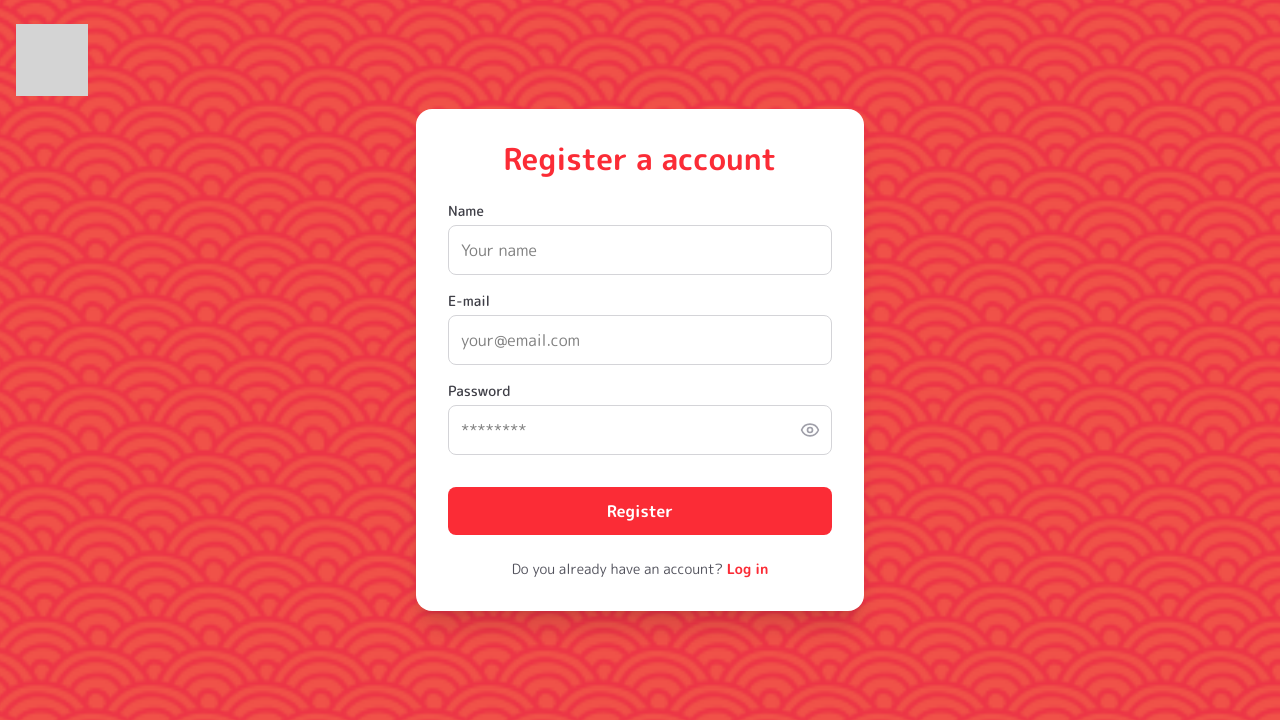
RegisterPage › should show validation errors if fields are invalid
Type "A" into the field with placeholder "Your name" at (640, 250), box [448,225,832,275]
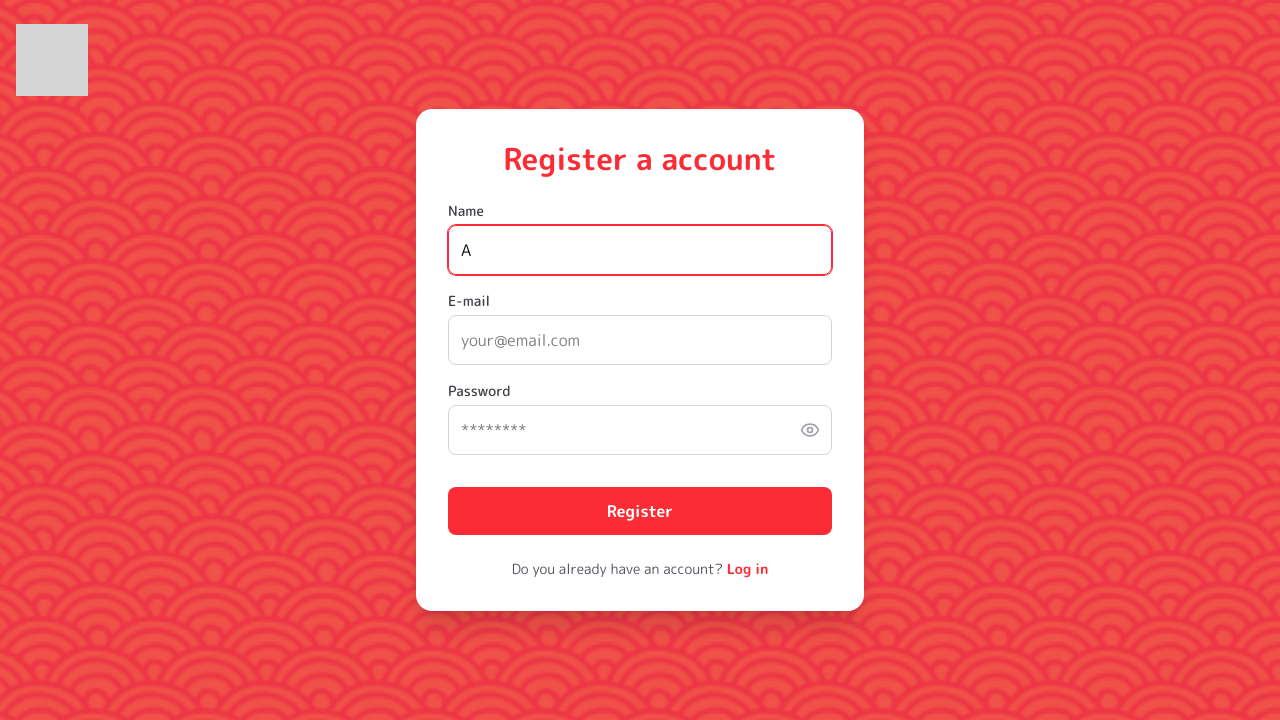
Type "invalid-email" into the field with placeholder "your@email.com" at (640, 340), box [448,315,832,365]
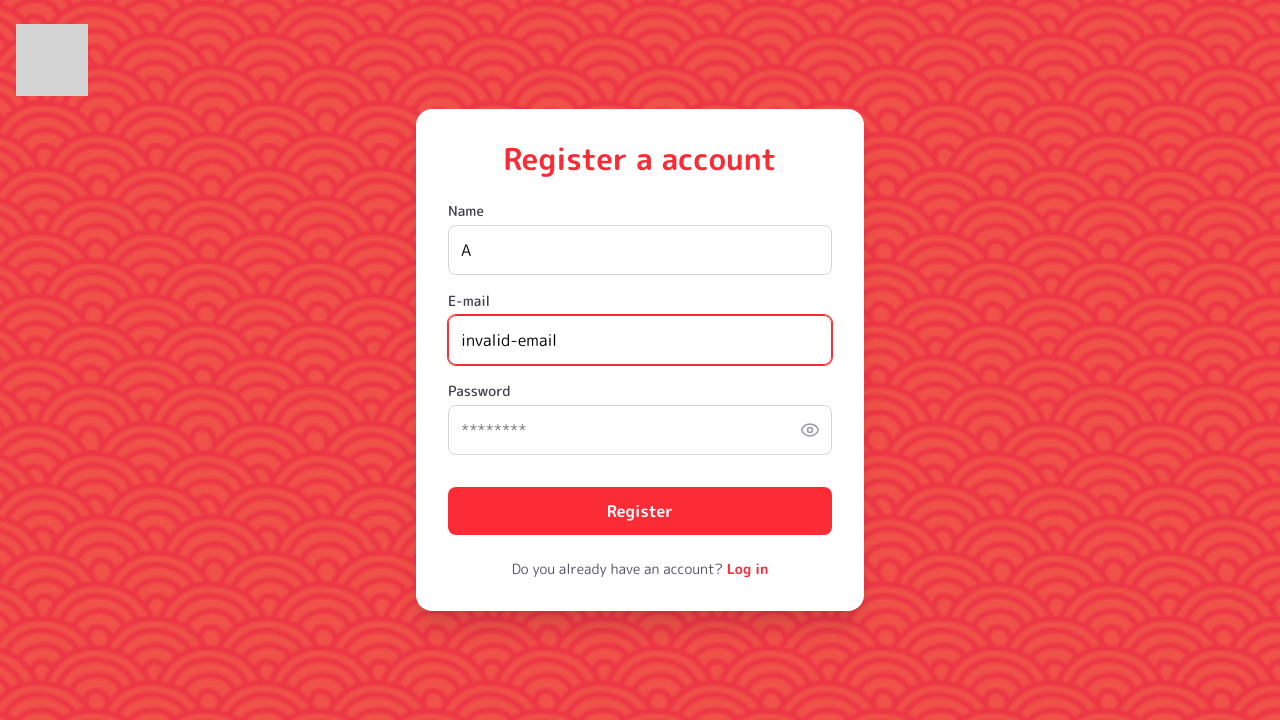
Type "123" into the password field with placeholder "********" at (640, 430), box [448,405,832,455]
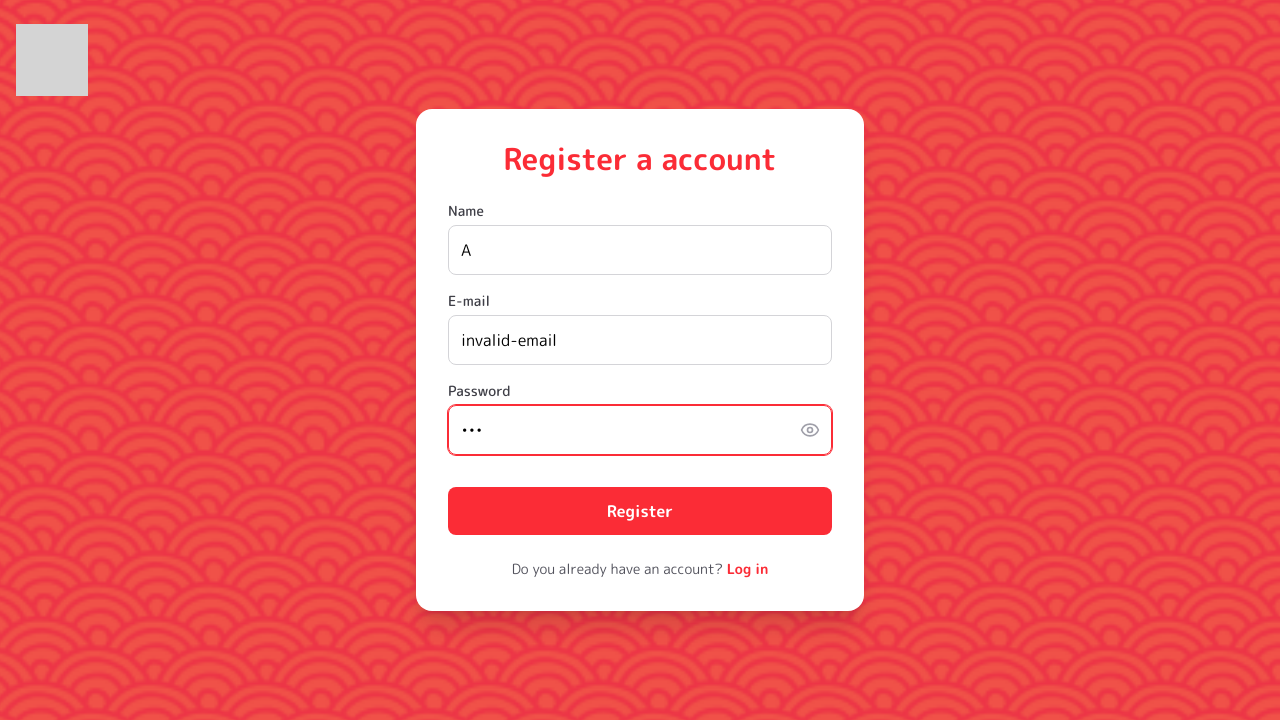
Click the button "Register" at (640, 511), box [448,487,832,535]
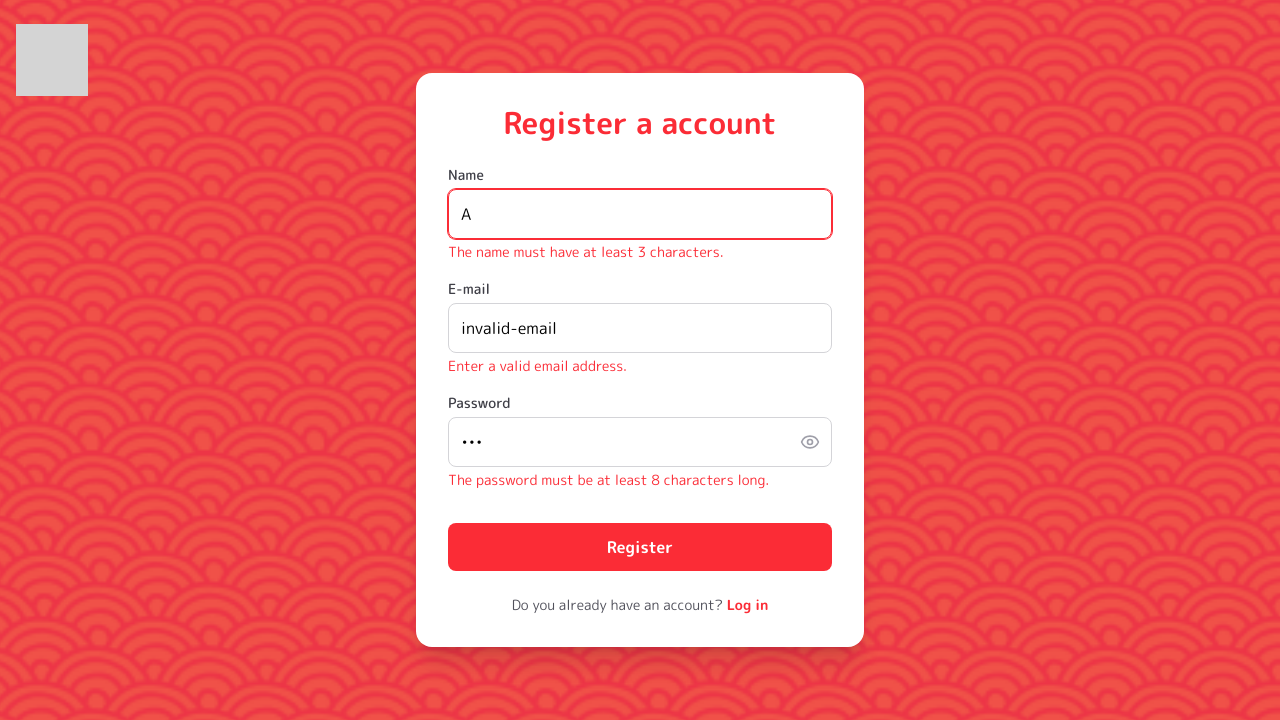
Expected: the text "The name must have at least 3 characters." is shown, [448,242,724,261]
Expected: the text "Enter a valid email address." is shown, [448,356,627,375]
Expected: the text "The password must be at least 8 characters long." is shown, [448,470,769,489]
